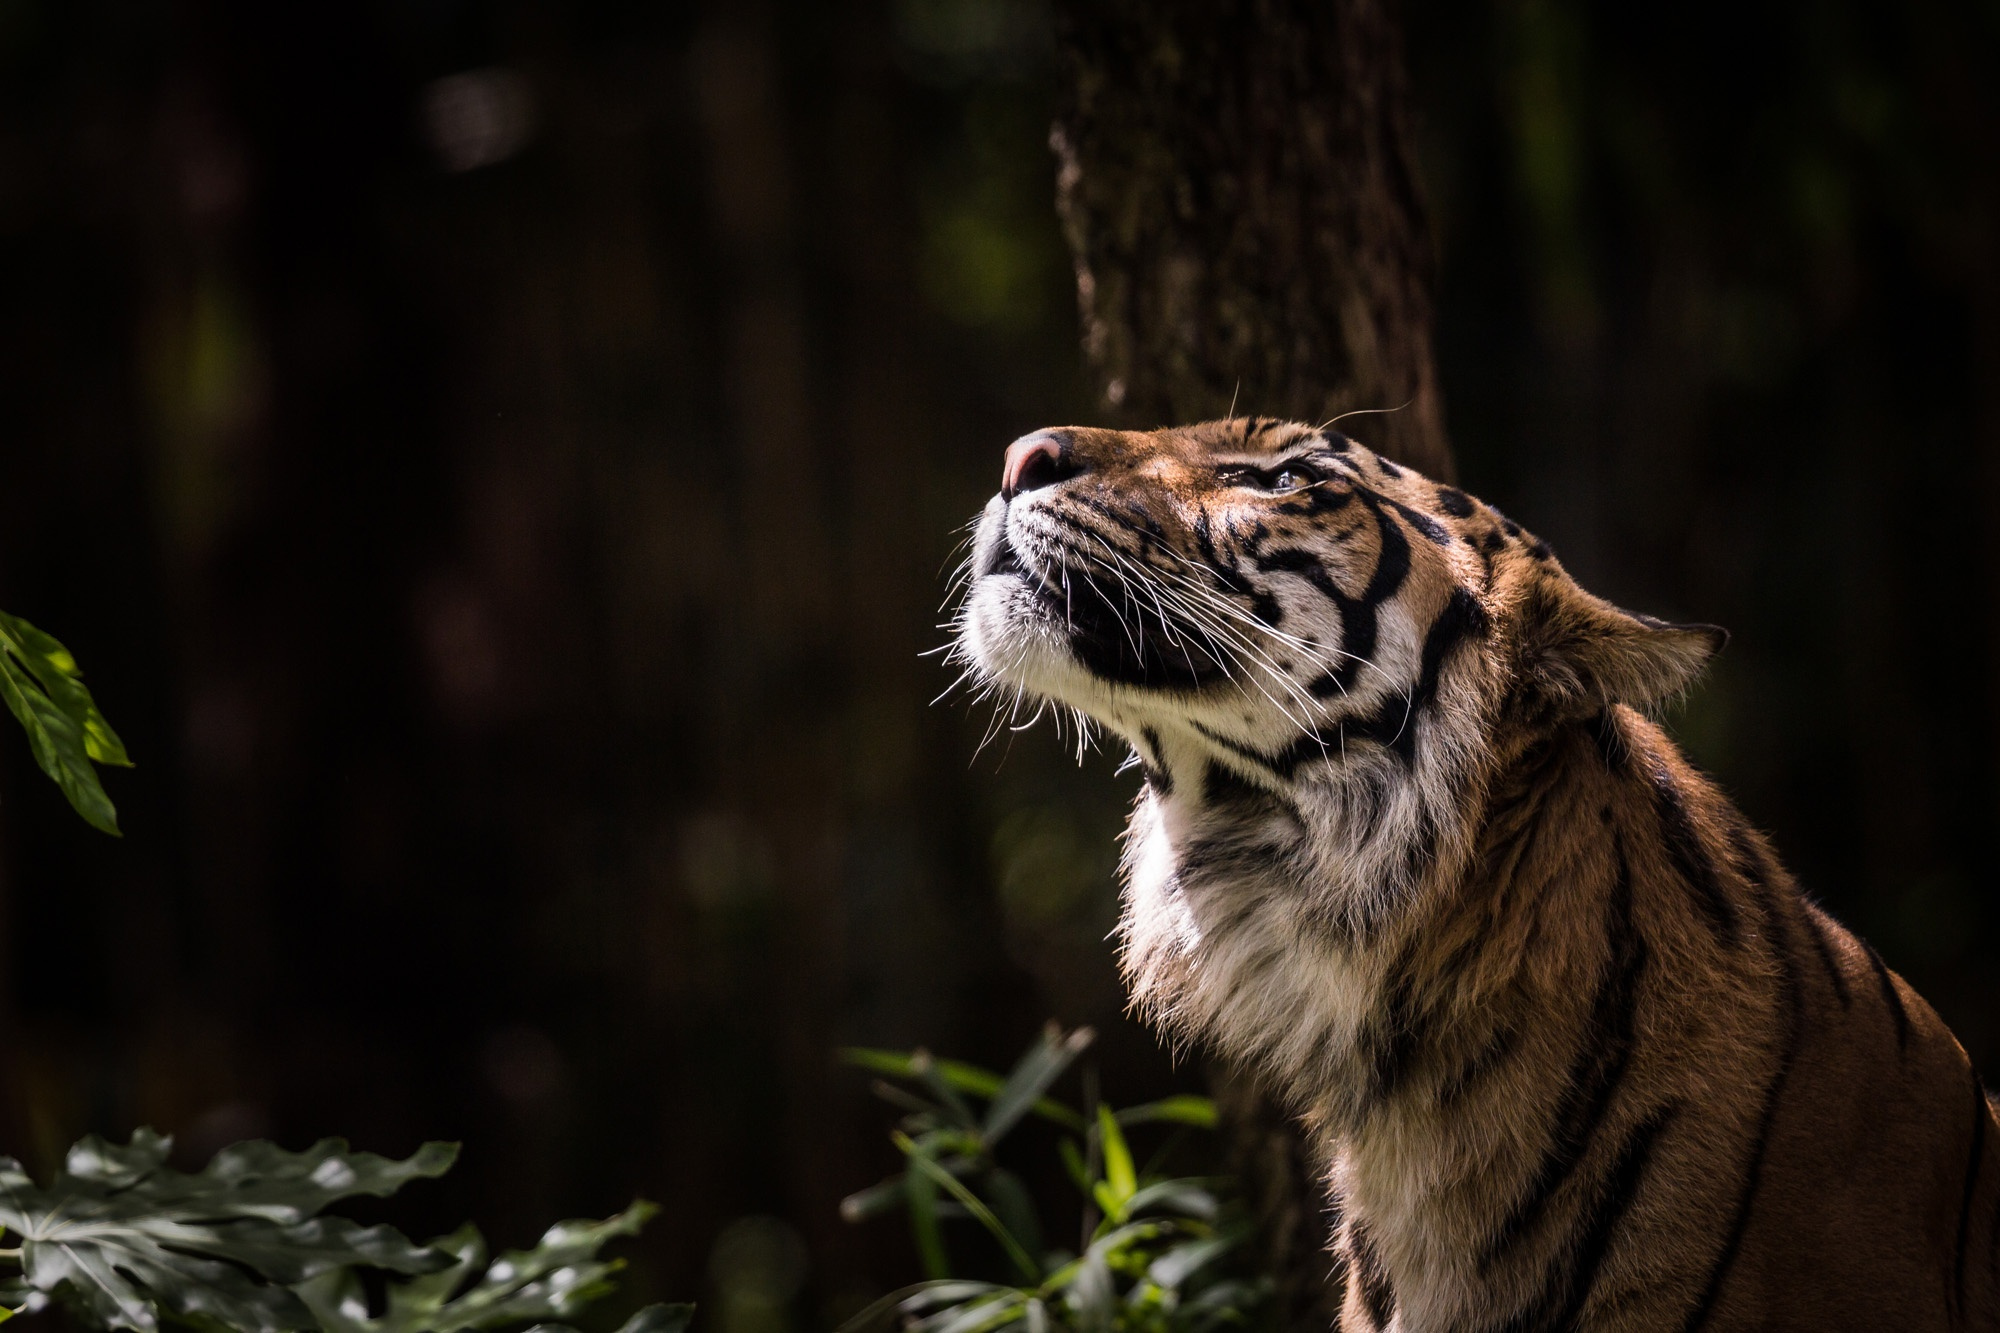tiger: (950, 411, 1869, 1299)
